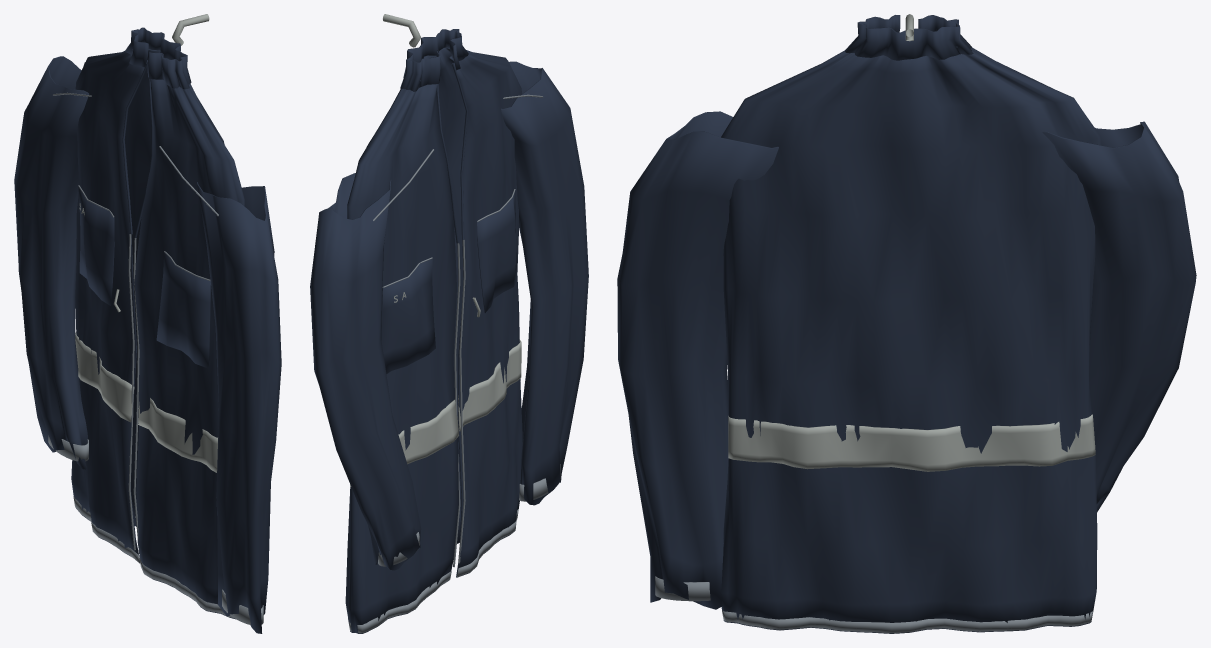
Rendered from SM_Saro_HangingJacket.fbx.
3 views of the same model, side by side, from view 1: azimuth 30°, elevation 25°; view 2: azimuth 150°, elevation 25°; view 3: azimuth 270°, elevation 25° (orthographic). The views are drawn at different scales.
Visible parts, largest first — view 1: SM_Saro_HangingJacket; view 2: SM_Saro_HangingJacket; view 3: SM_Saro_HangingJacket.
Part boxes in pixels (x1,y1,x2,y2): SM_Saro_HangingJacket: (14, 14, 281, 633); SM_Saro_HangingJacket: (310, 14, 588, 633); SM_Saro_HangingJacket: (617, 14, 1196, 633).
Bounding box in the file's own units: 0.1381 × 0.6229 × 0.7352.
